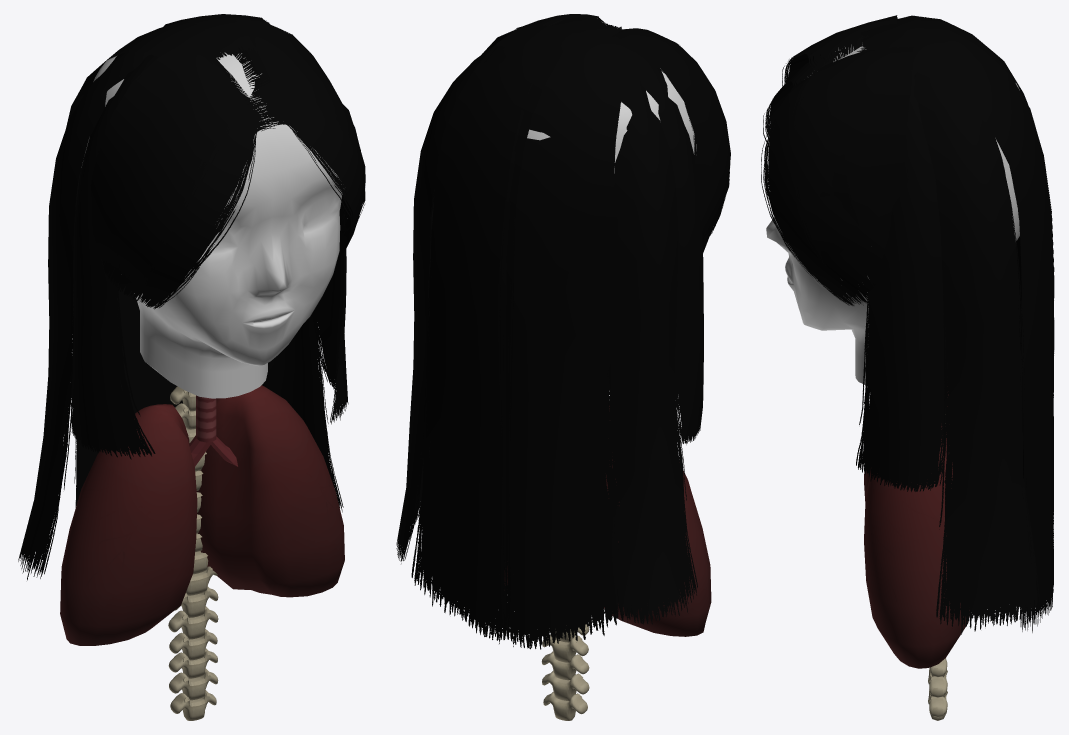
The model's file is PenenggalV8.fbx.
The picture shows the model from 3 angles, left to right: view 1: azimuth 30°, elevation 25°; view 2: azimuth 150°, elevation 25°; view 3: azimuth 270°, elevation 25°; orthographic projection. The views are drawn at different scales.
Parts seen in each view (by area): view 1: face, LungLeft, LungRight, HairFrontLeft2, HairbackRight2, HairSideLeft, HairFrontLeft1, HairFrontRight1, HairFrontRight2, HairbackRight1, HairBackLeft2, HairSideRight (+8 smaller); view 2: HairbackRight1, HairBackLeft1, HairbackRight2, HairSideLeft, HairBackLeft2, HairFrontLeft2, LungLeft, face, spine016, spine017, spine015, spine014 (+1 smaller); view 3: HairBackLeft2, HairSideRight, HairBackLeft1, HairFrontRight2, LungRight, HairFrontRight1, face, HairbackRight1, HairFrontLeft2, HairFrontLeft1.
Part boxes in pixels (x1,y1,x2,y2): face: (81,52,343,398); LungLeft: (60,404,197,645); LungRight: (196,385,344,597); HairFrontLeft2: (90,43,252,289); HairbackRight2: (18,36,151,580); HairSideLeft: (71,54,158,459); HairFrontLeft1: (103,94,275,309); HairFrontRight1: (249,78,364,258); HairFrontRight2: (234,19,365,233); HairbackRight1: (66,20,236,507); HairBackLeft2: (262,314,343,512); HairSideRight: (312,196,348,424); HairbackRight1: (498,22,638,649); HairBackLeft1: (411,17,602,643); HairbackRight2: (589,67,697,624); HairSideLeft: (629,49,703,444); HairBackLeft2: (396,41,521,563); HairFrontLeft2: (611,28,730,239); LungLeft: (604,406,711,636); face: (527,68,696,173); spine016: (542,670,589,700); spine017: (543,691,587,720); spine015: (541,651,589,680); spine014: (542,635,588,662); HairBackLeft2: (914,60,1039,634); HairSideRight: (856,71,947,491); HairBackLeft1: (857,28,1054,632); HairFrontRight2: (789,47,913,276); LungRight: (864,426,969,668); HairFrontRight1: (761,76,879,305); face: (766,44,1019,384); HairbackRight1: (860,15,1054,596); HairFrontLeft2: (782,15,897,86); HairFrontLeft1: (763,51,840,143).
Size of the model in its own units: 206 by 457 by 178.
